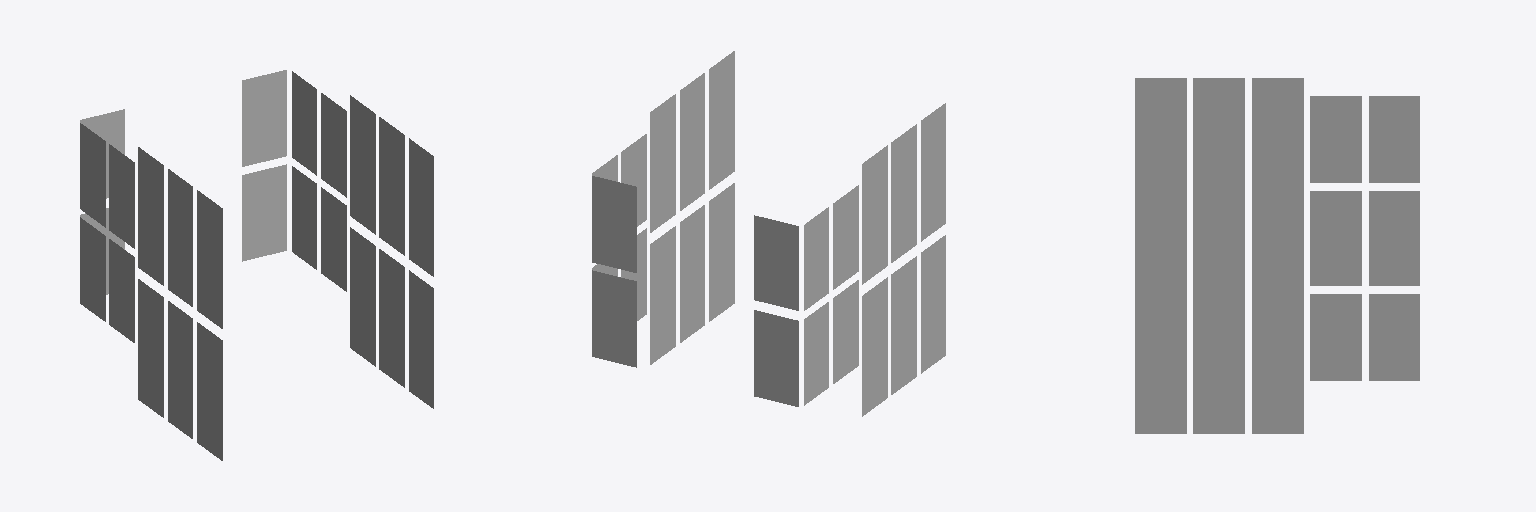
The model's file is S13_AFN_19.OBJ.
The picture shows the model from 3 angles: view 1: azimuth 30°, elevation 25°; view 2: azimuth 150°, elevation 25°; view 3: azimuth 270°, elevation 25°; orthographic projection.
Visible parts, largest first — view 1: s13_afn_19_0; view 2: s13_afn_19_0; view 3: s13_afn_19_0.
Part boxes in pixels (bbox=[...]): s13_afn_19_0: bbox=[80, 70, 433, 460]; s13_afn_19_0: bbox=[592, 51, 945, 416]; s13_afn_19_0: bbox=[1135, 78, 1419, 433].
Size of the model in its own units: 502 by 573 by 595.